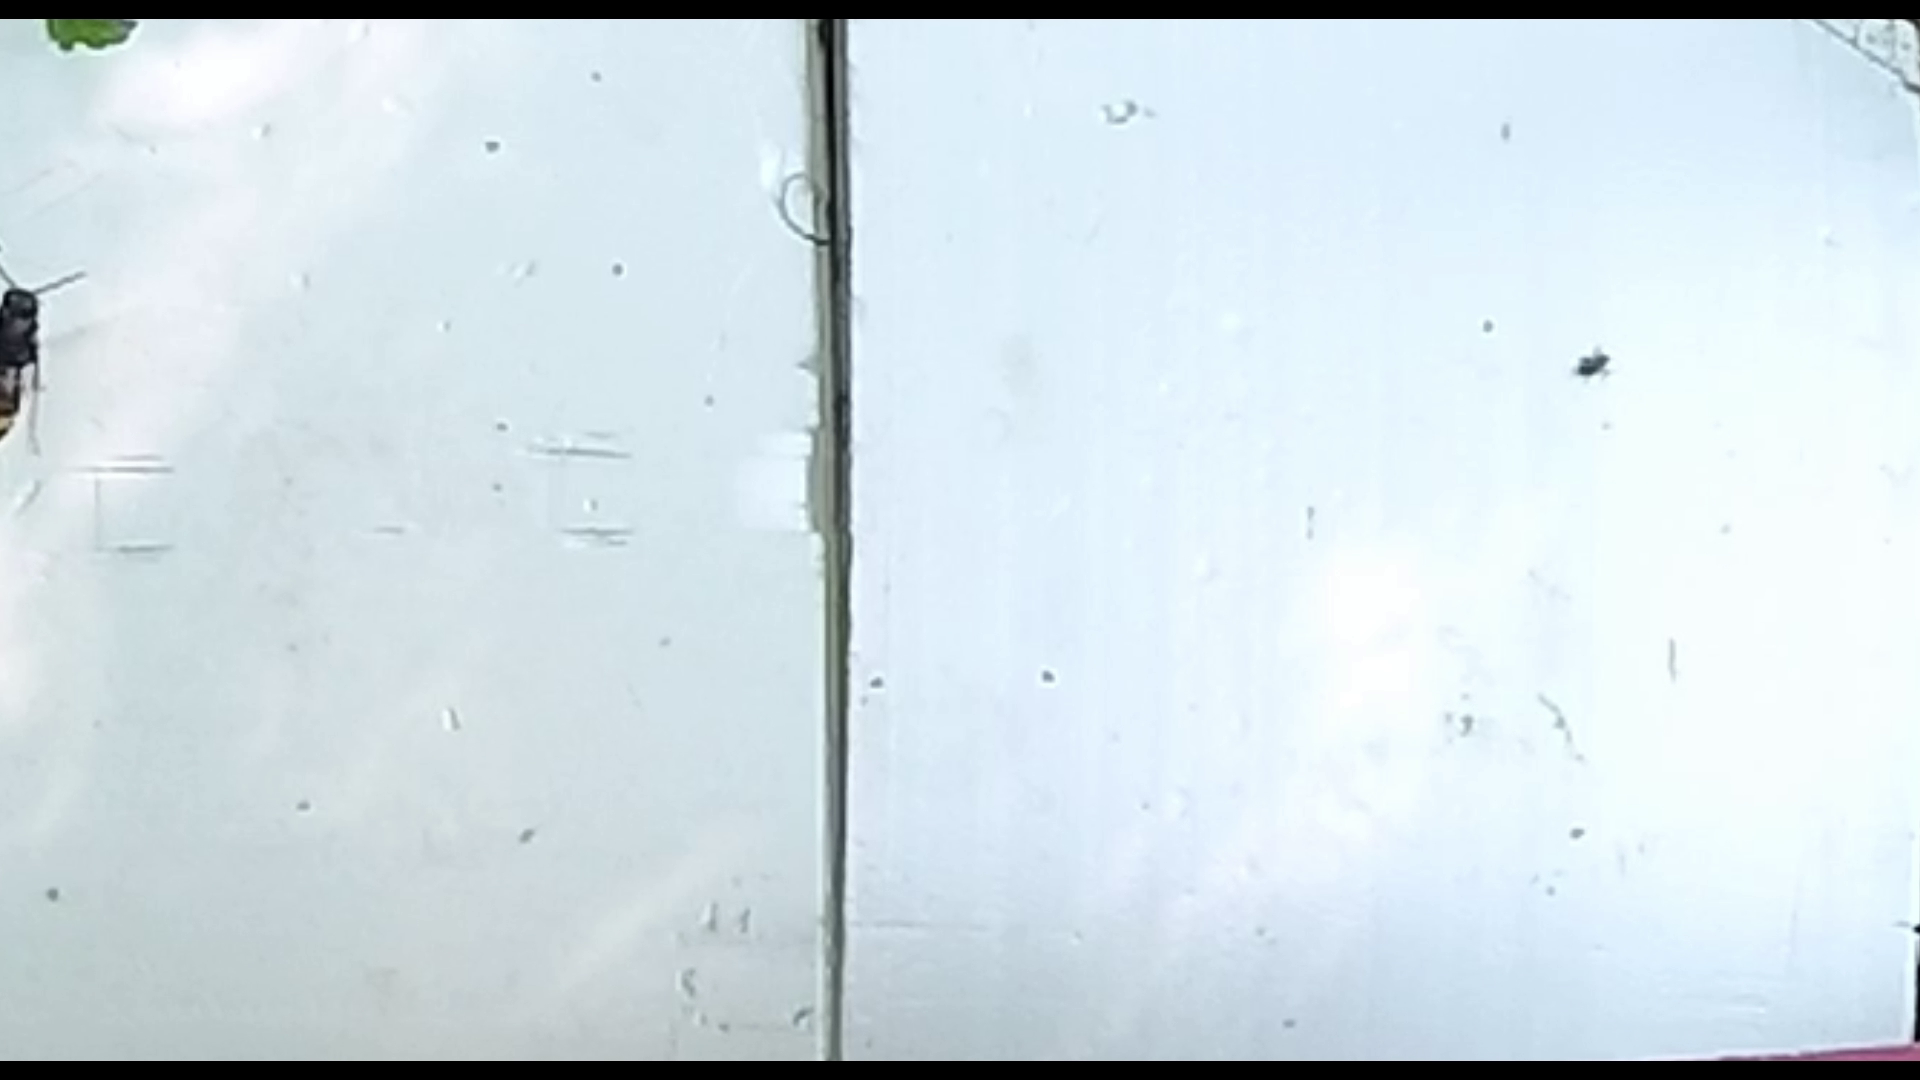Asian_hornets: (0, 252, 92, 470)
